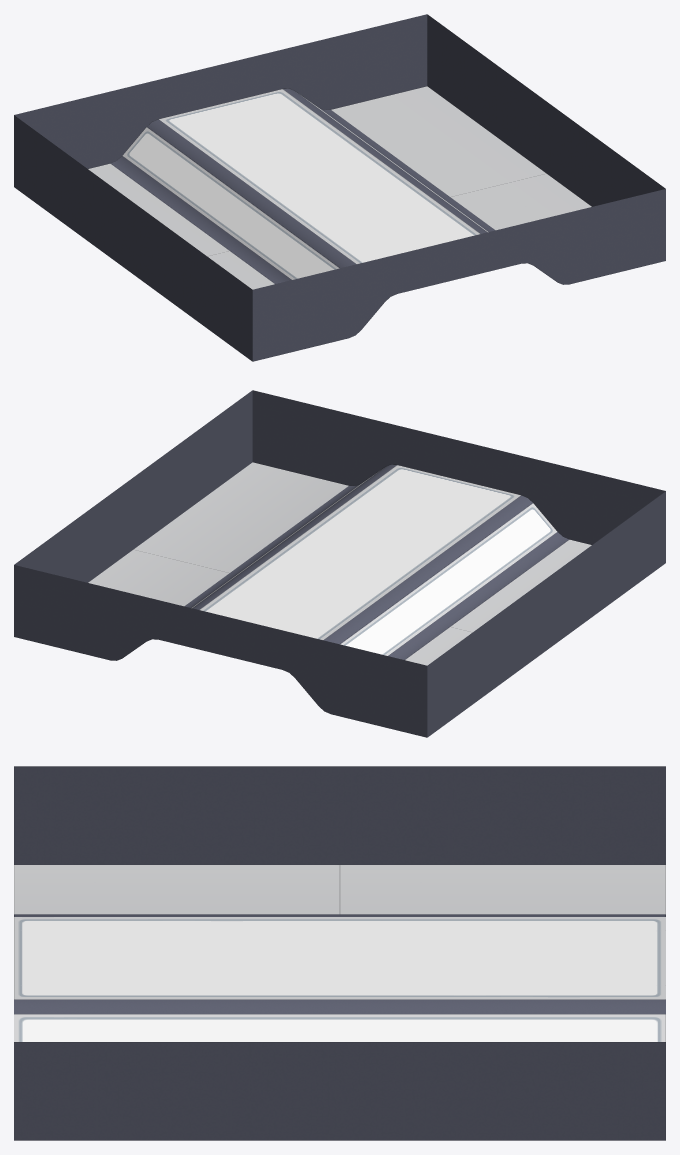
Rendered from Roof_02.FBX.
3 views of the same model, one above another, from view 1: azimuth 30°, elevation 25°; view 2: azimuth 150°, elevation 25°; view 3: azimuth 270°, elevation 25° (orthographic). The views are drawn at different scales.
Visible parts, largest first — view 1: Roof_02; view 2: Roof_02; view 3: Roof_02.
Part boxes in pixels (box(x1,y1,x2,y2)): Roof_02: box(14, 14, 665, 361); Roof_02: box(14, 390, 665, 737); Roof_02: box(14, 766, 665, 1140).
Bounding box in the file's own units: 6 × 1 × 6.
